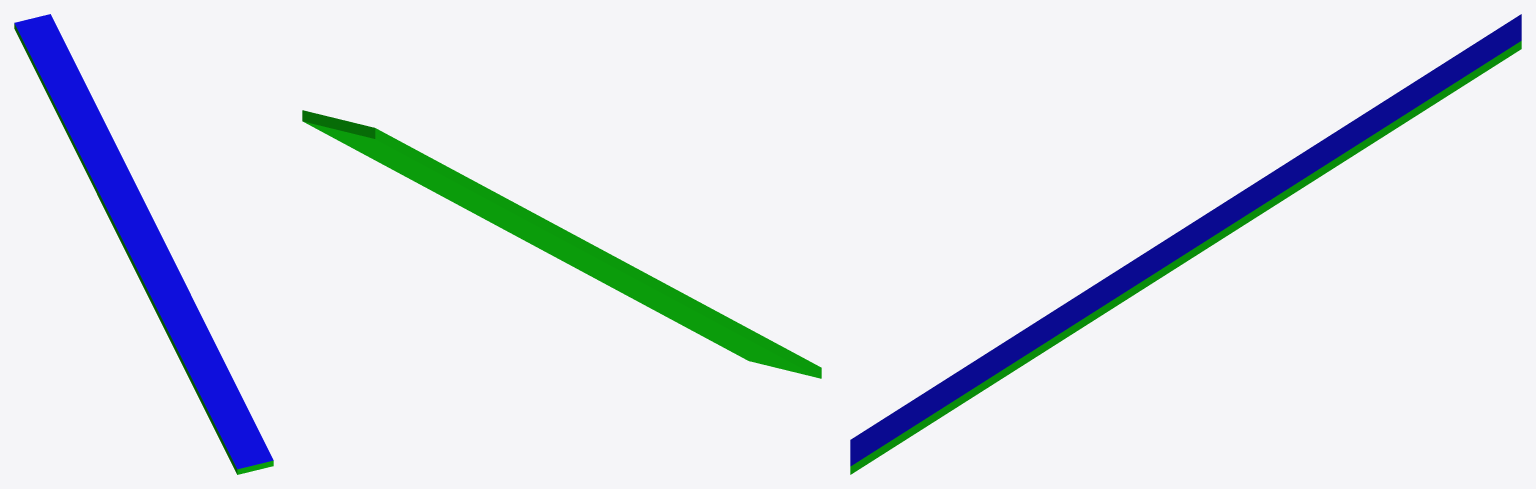
The model's file is roof_shed.glb.
3 renders of one model, left to right at view 1: azimuth 30°, elevation 25°; view 2: azimuth 150°, elevation 25°; view 3: azimuth 270°, elevation 25°, orthographic. The views are drawn at different scales.
Parts seen in each view (by area): view 1: roof_shed; view 2: roof_shed; view 3: roof_shed.
Part boxes in pixels (box(x1,y1,x2,y2)): roof_shed: box(14, 14, 273, 474); roof_shed: box(302, 110, 821, 378); roof_shed: box(850, 14, 1521, 474).
Size of the model in its own units: 1 by 7.57 by 10.6.
